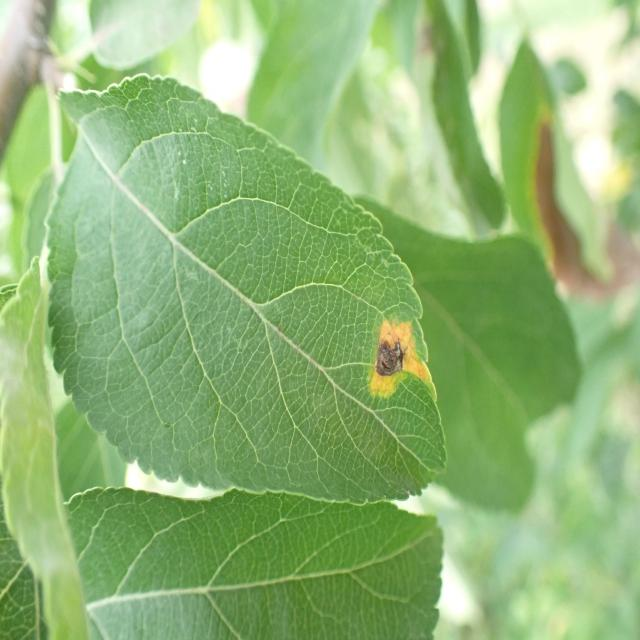Rust: (361, 313, 434, 419)
